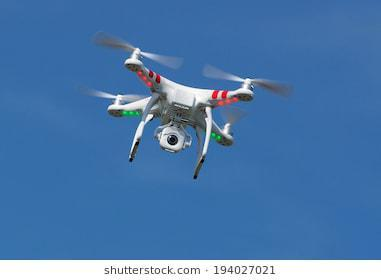drone: (64, 22, 303, 186)
